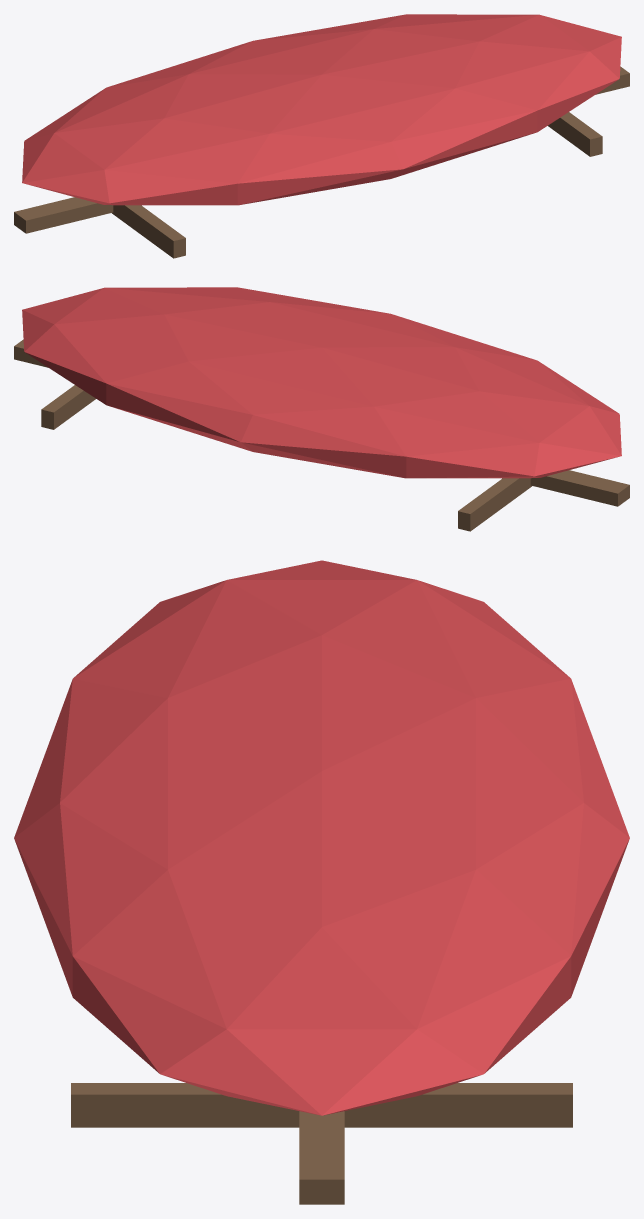
File: skyship_balloon_panel.glb
3 views of the same model, one above another, from view 1: azimuth 30°, elevation 25°; view 2: azimuth 150°, elevation 25°; view 3: azimuth 270°, elevation 25° (orthographic). The views are drawn at different scales.
Visible parts, largest first — view 1: panel, frame, rib_l, rib_r; view 2: panel, frame, rib_l, rib_r; view 3: panel, rib_r, frame.
Boxes of the visible parts, left/top/right/bottom form: panel: left=22, top=14, right=621, bottom=205; frame: left=14, top=66, right=629, bottom=233; rib_l: left=112, top=205, right=185, bottom=258; rib_r: left=548, top=112, right=602, bottom=156; panel: left=22, top=287, right=621, bottom=478; frame: left=14, top=339, right=629, bottom=506; rib_l: left=458, top=478, right=531, bottom=531; rib_r: left=41, top=385, right=95, bottom=429; panel: left=14, top=560, right=629, bottom=1115; rib_r: left=71, top=1083, right=572, bottom=1127; frame: left=299, top=1111, right=344, bottom=1204.
Bounding box in the file's own units: 2.9 × 0.382 × 1.35.
